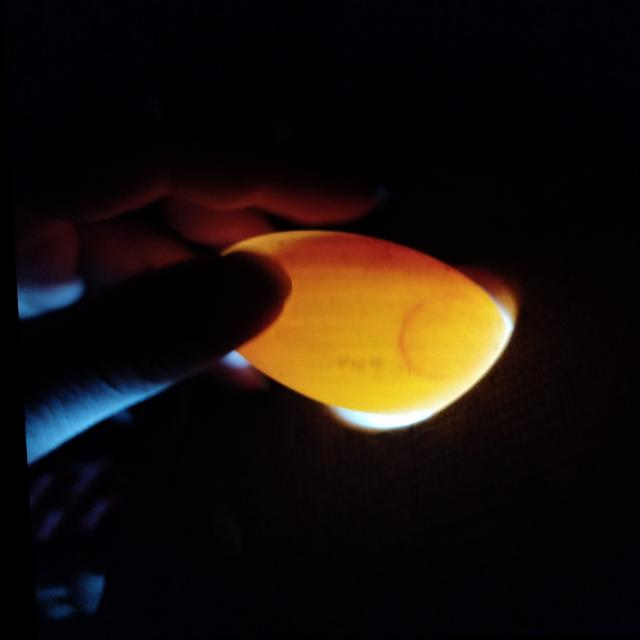Gema Quebrada: (272, 237, 451, 272)
